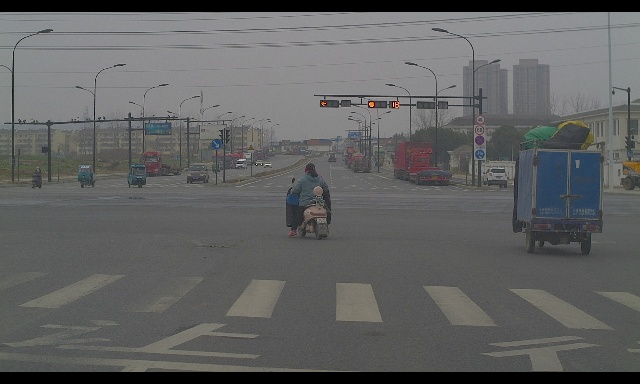bicycle: (286, 163, 331, 239), (31, 166, 42, 189)
car: (186, 163, 209, 183), (483, 168, 507, 187), (236, 159, 247, 169), (327, 152, 337, 162), (216, 161, 224, 170), (375, 160, 384, 167), (342, 153, 349, 162), (255, 160, 264, 166), (264, 162, 272, 168)
truck: (406, 148, 452, 186), (392, 142, 431, 181), (140, 151, 184, 176), (622, 160, 640, 190), (351, 153, 370, 173), (220, 153, 234, 169), (232, 152, 245, 169), (373, 145, 385, 162), (255, 148, 268, 161), (212, 150, 224, 164), (243, 153, 253, 165), (291, 146, 301, 155), (346, 146, 355, 156), (299, 147, 307, 154), (242, 146, 250, 153)
